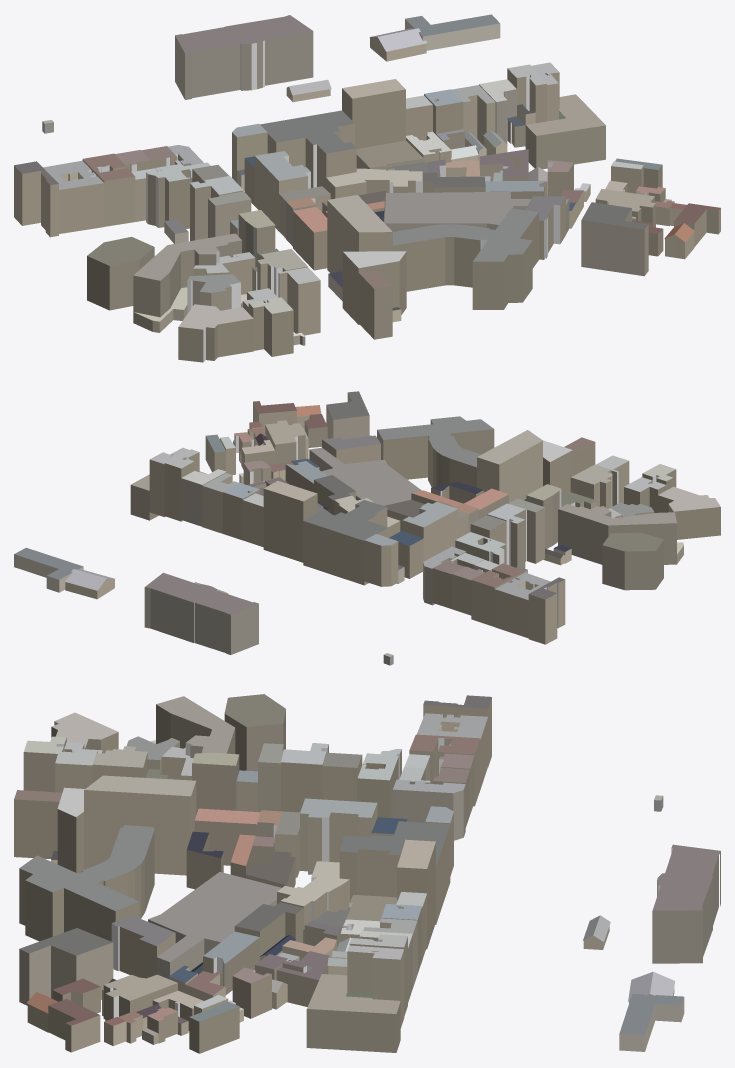
3 renders of one model, top to bottom at view 1: azimuth 30°, elevation 25°; view 2: azimuth 150°, elevation 25°; view 3: azimuth 270°, elevation 25°, orthographic. The views are drawn at different scales.
Visible parts, largest first — view 1: tuile; view 2: tuile; view 3: tuile.
Boxes of the visible parts, x1,y1,x2,y2 form: tuile: [14, 14, 720, 362]; tuile: [14, 391, 720, 665]; tuile: [14, 694, 720, 1053].
Size of the model in its own units: 285 by 39.49 by 268.
